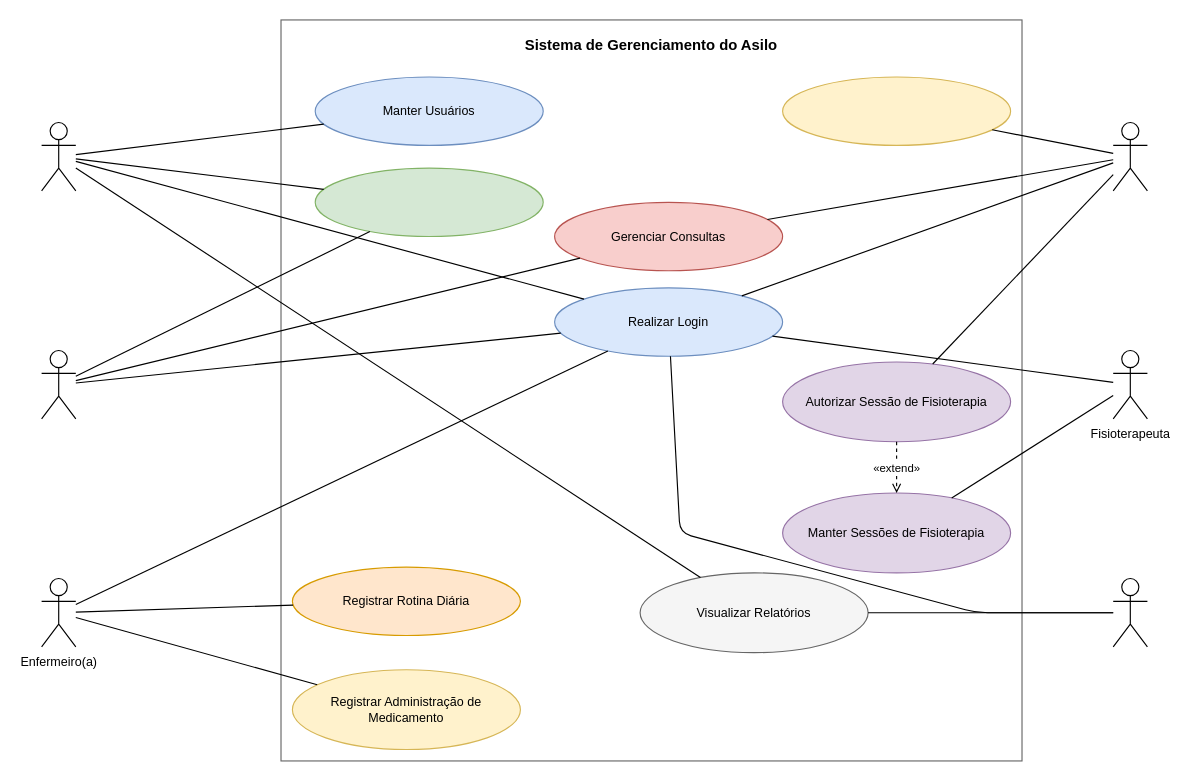
The diagram is 1190 pixels wide and 781 high, and some of its shapes have lost their labels. The shapes that lost their labels are listed below. From the top down, each one's box as (x1, y1, x2, y2) in pixels, then its label:
(781, 76, 1011, 145): Prescrever Medicamento
(40, 121, 76, 191): Administrador
(1112, 121, 1147, 191): Médico
(314, 167, 543, 237): Manter Idosos
(40, 349, 76, 419): Recepcionista
(1112, 577, 1147, 647): Familiar
